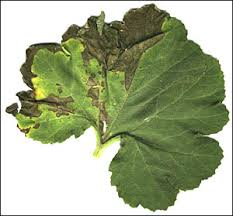Diseased_Leaves: (80, 26, 165, 63), (22, 74, 67, 140), (88, 78, 111, 146)
